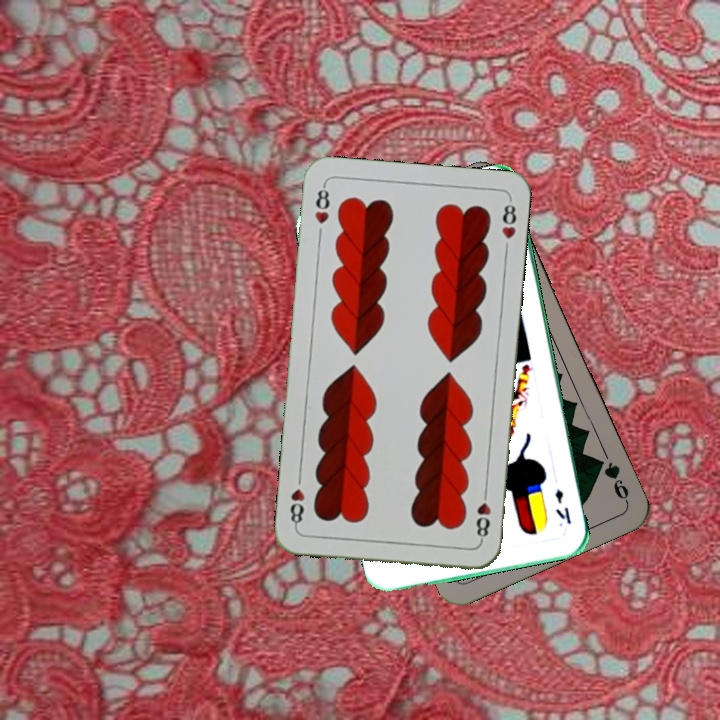EK: (551, 485, 574, 527)
G9: (591, 454, 631, 505)
H8: (472, 485, 493, 544), (311, 181, 332, 227)
